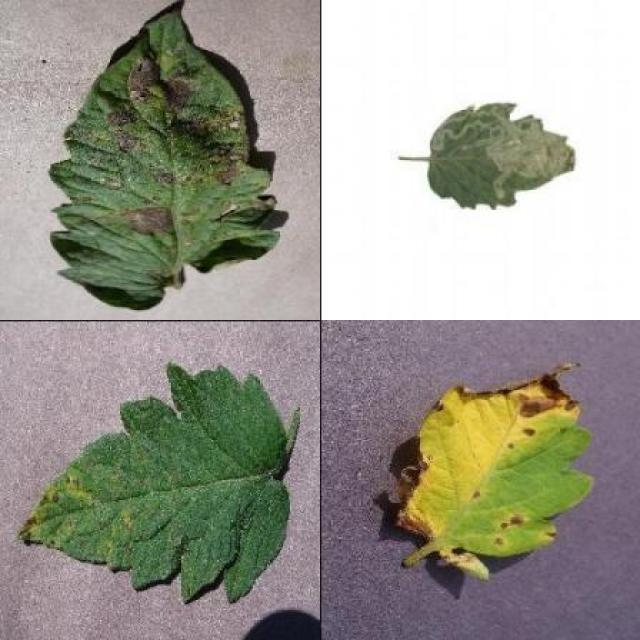Early Blight: (47, 1, 280, 310)
Leaf Miner: (426, 98, 576, 212)
Septoria: (15, 360, 291, 603), (390, 366, 593, 585)
